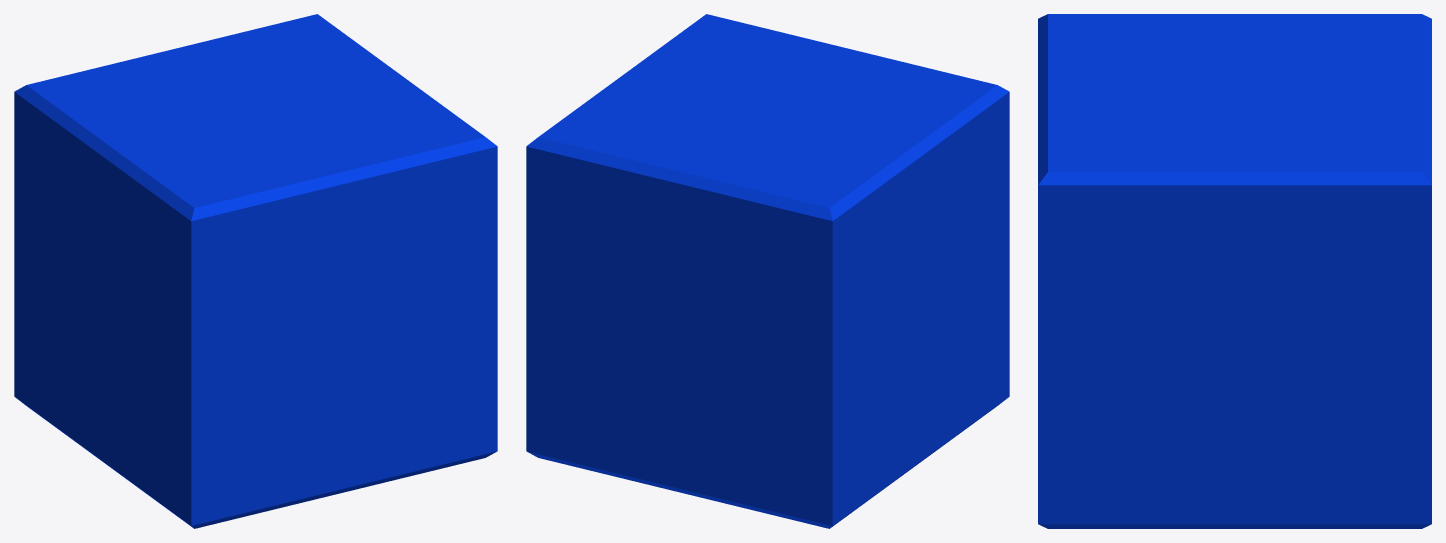
The picture shows the model from 3 angles, left to right: view 1: azimuth 30°, elevation 25°; view 2: azimuth 150°, elevation 25°; view 3: azimuth 270°, elevation 25°; orthographic projection. The views are drawn at different scales.
Parts seen in each view (by area): view 1: Cube; view 2: Cube; view 3: Cube.
Part boxes in pixels (box(x1,y1,x2,y2)): Cube: box(14, 14, 497, 528); Cube: box(526, 14, 1009, 528); Cube: box(1038, 14, 1431, 528).
Bounding box in the file's own units: 0.15 × 0.15 × 0.15.
